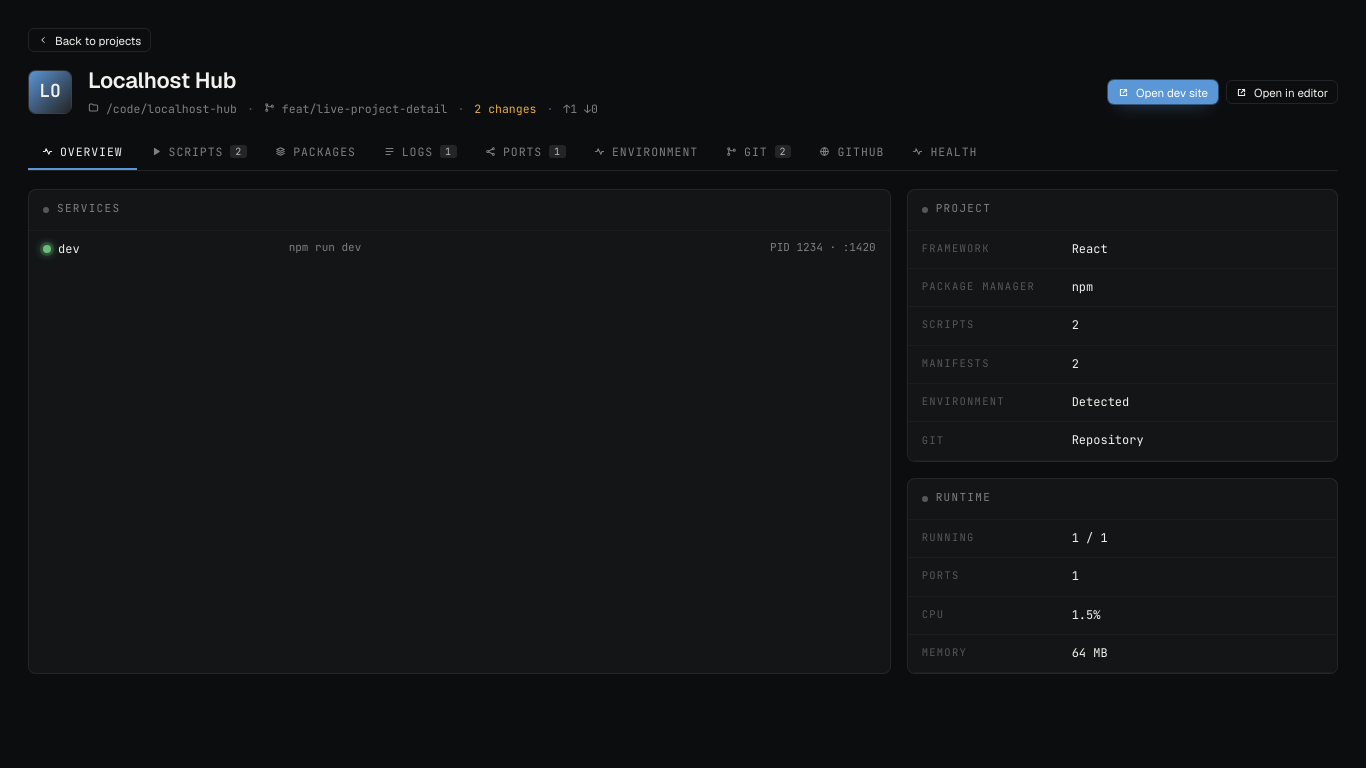
Test: ProjectView › connects scripts, logs, ports, and Git tabs to live state
Click the button "Scripts 2" at (199, 152), box [137,135,261,170]
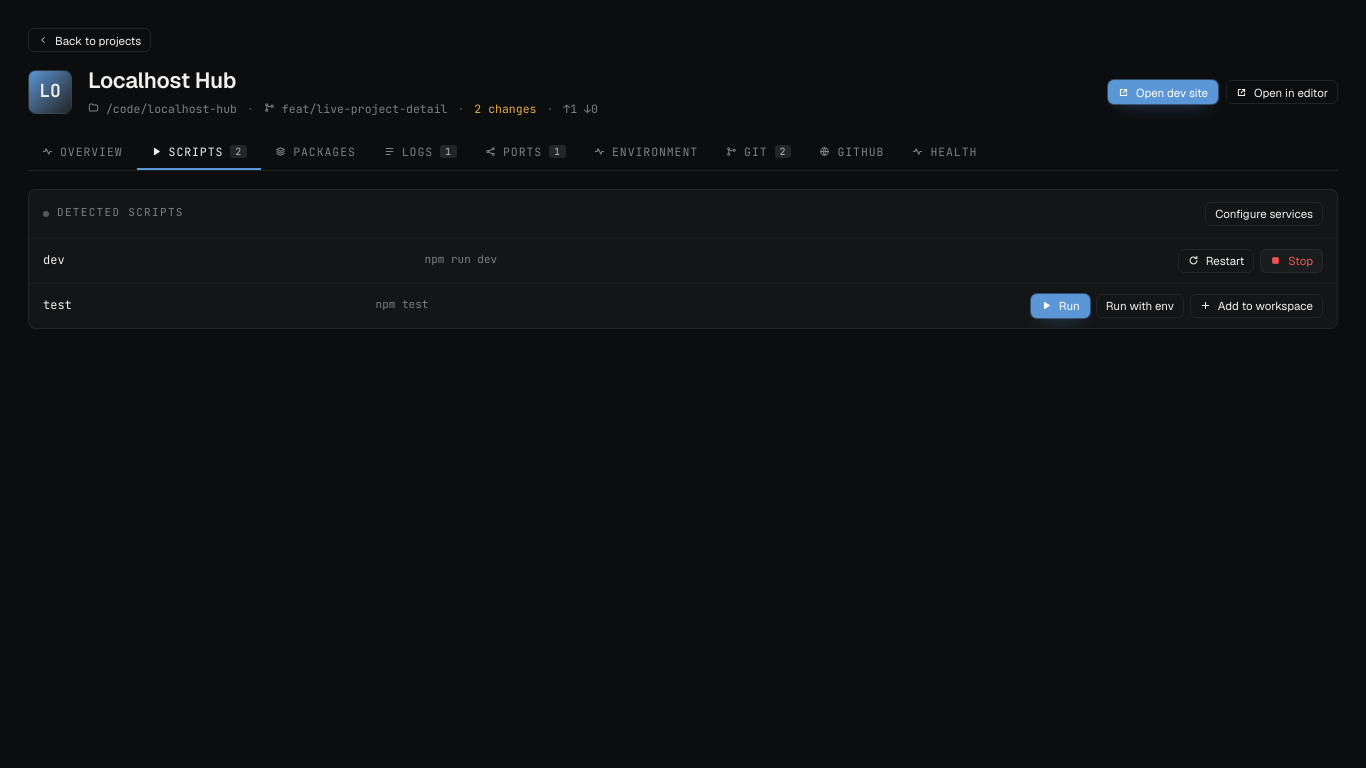
Check: the text "npm run dev" is shown, box [425,253,497,267]
Check: the button "Restart" is shown, box [1178,249,1254,273]
Click the button "Logs 1" at (420, 152), box [370,135,471,170]
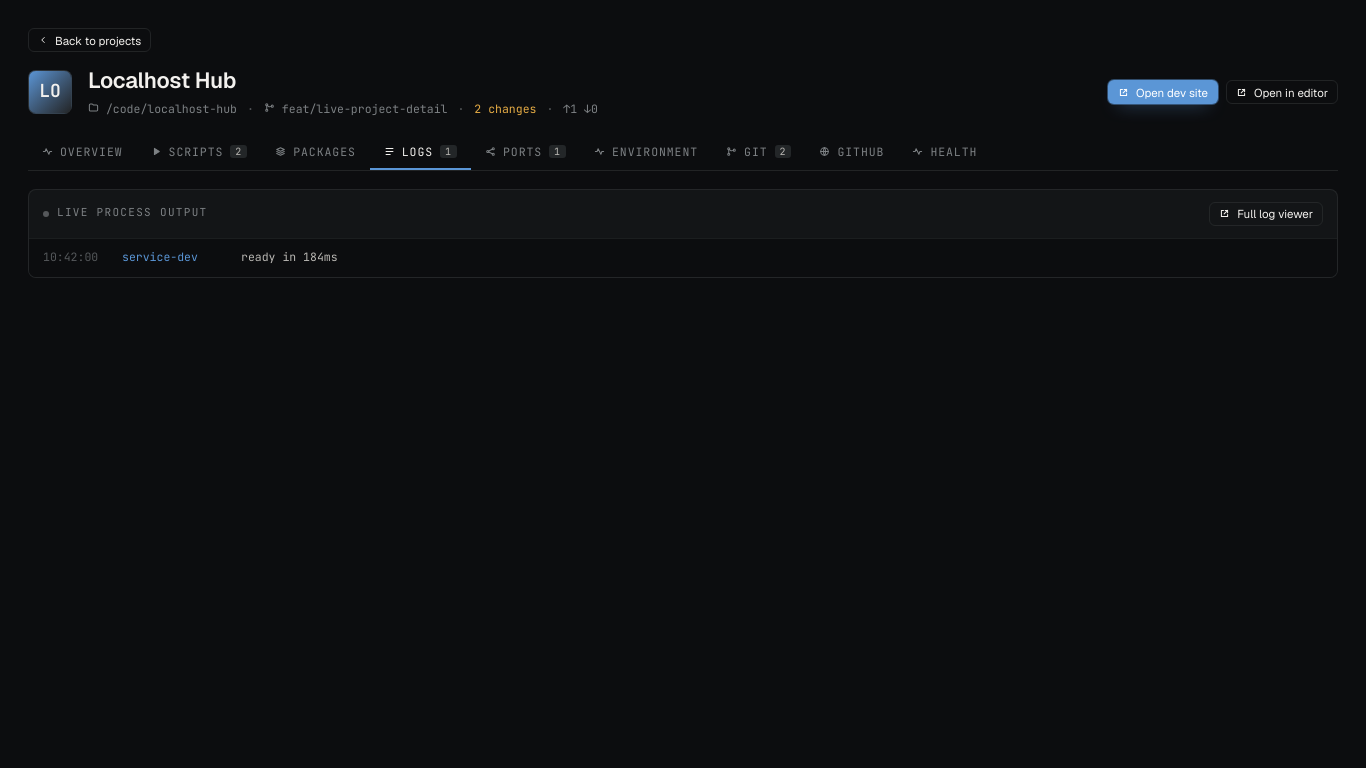
Check: the text "ready in 184ms" is shown, box [241,250,338,265]
Click the button "Ports 1" at (526, 152), box [471,135,580,170]
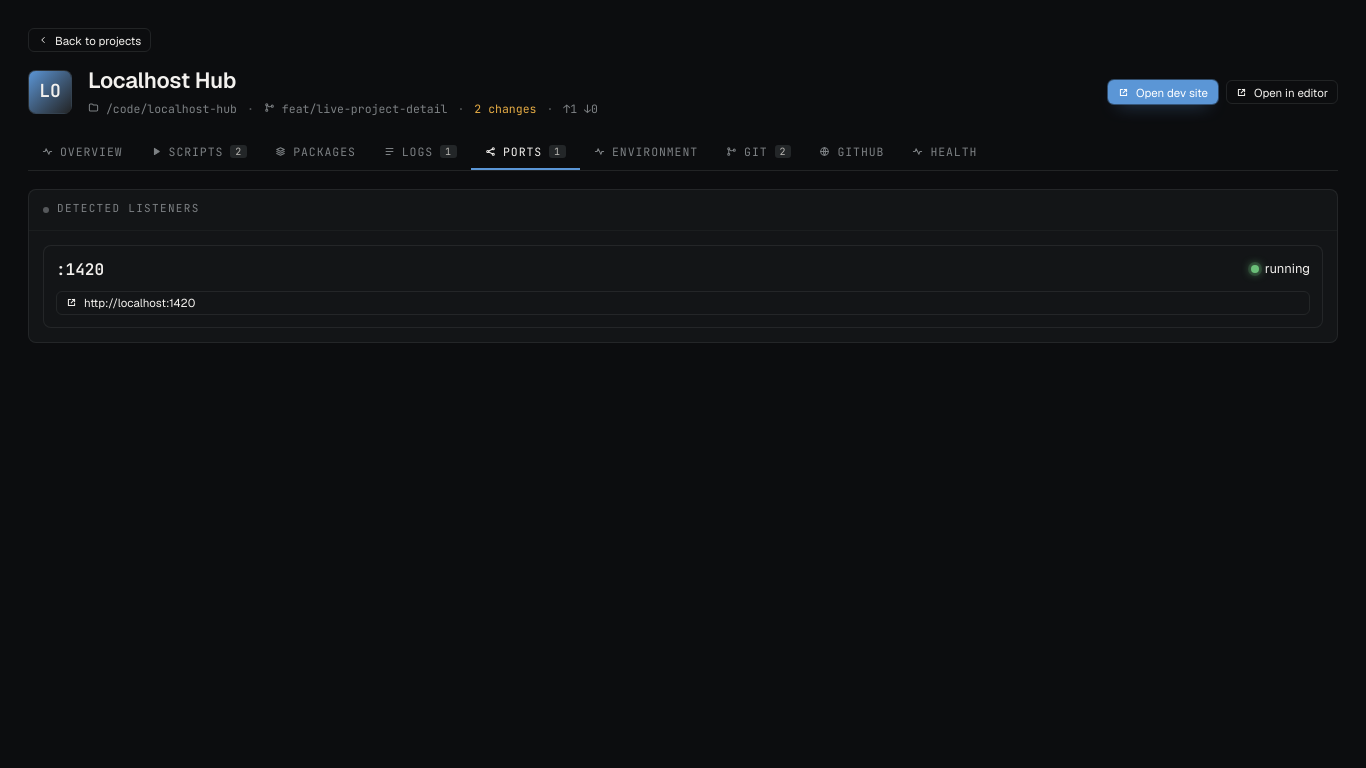
Check: the text ":1420" is shown, box [56,258,104,281]
Click the button "Git 2" at (759, 152), box [712,135,806,170]
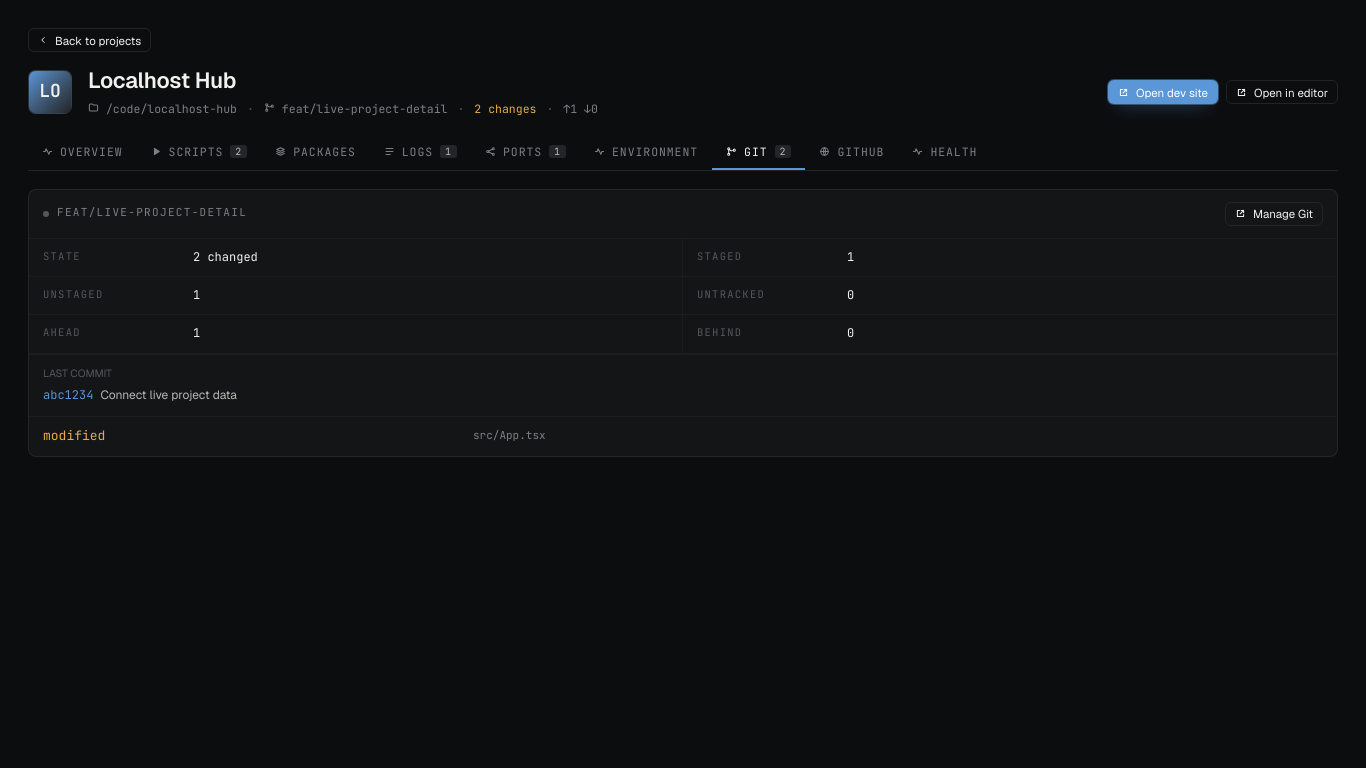
Check: the text "Connect live project data" is shown, box [100,387,237,403]
Check: the text "src/App.tsx" is shown, box [473,429,546,443]
